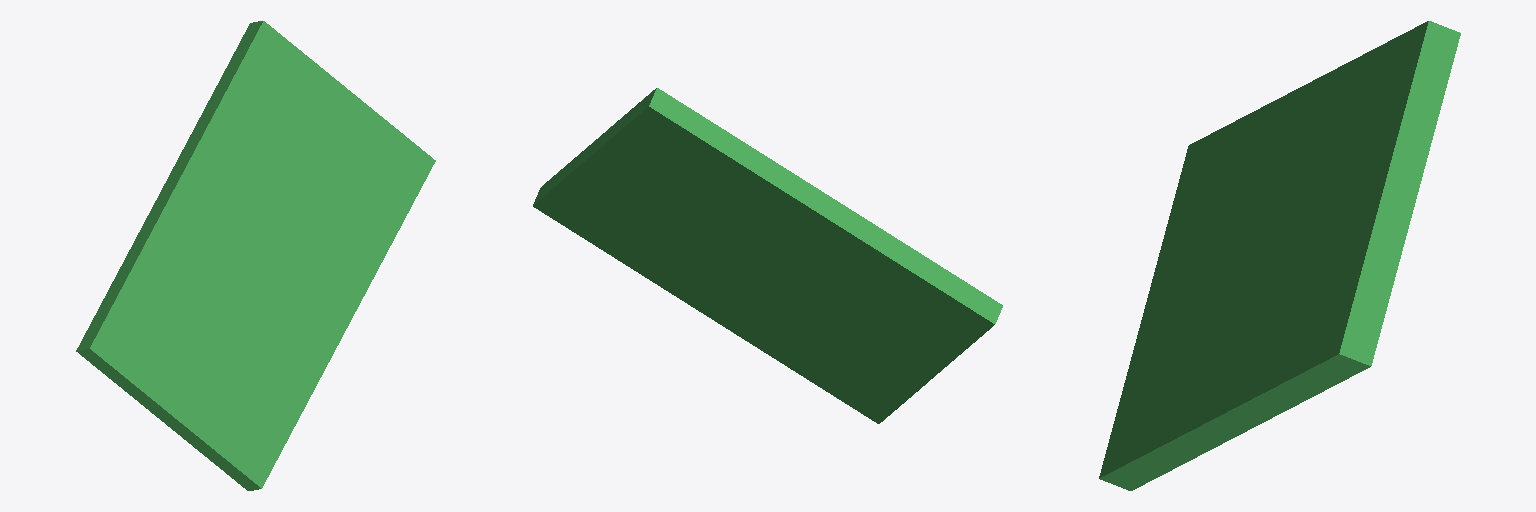
The robot description file, URDF, robot "fall_plate":
<?xml version="1.0"?>
<!-- 회전 낙하 시험 3: 얇은 판(0.5 x 0.3 x 0.03 m)을 크게 기울여 놓는다. 튕기며 돌다가 넓은 면으로 눕는다.
     뷰어에서 열면 위(z=1.5 m 근처)에서 시작해 중력으로 떨어진다. 기울어진 채 닿으면 모서리로 구르다 한 면에 서서 멈춘다. 단위 m, rad. -->
<robot name="fall_plate">
  <material name="body"><color rgba="0.35 0.7 0.4 1"/></material>
  <link name="fall_plate_link">
    <inertial><origin xyz="0 0 1.5"/><mass value="1.0"/><inertia ixx="0.02" ixy="0" ixz="0" iyy="0.02" iyz="0" izz="0.02"/></inertial>
    <visual>
      <origin xyz="0 0 1.5" rpy="1.0 -0.6 0.5"/>
      <geometry><box size="0.5 0.3 0.03"/></geometry>
      <material name="body"/>
    </visual>
  </link>
</robot>

--- Facts derived from the render (not from the file) ---
The picture shows the robot from 3 angles, left to right: view 1: azimuth 30°, elevation 25°; view 2: azimuth 150°, elevation 25°; view 3: azimuth 270°, elevation 25°; orthographic projection.
Model fall_plate with 1 links and 0 joints (none), rooted at fall_plate_link, posed every joint at zero.
Links seen in each view (by area): view 1: fall_plate_link; view 2: fall_plate_link; view 3: fall_plate_link.
Link boxes in pixels (x1,y1,x2,y2): fall_plate_link: (76,21,435,490); fall_plate_link: (533,88,1002,423); fall_plate_link: (1099,21,1460,490).
Size in the robot's own frame: 0.569 by 0.2983 by 0.504 metres.
Geometry: primitives only (box / cylinder / sphere), no mesh files.
